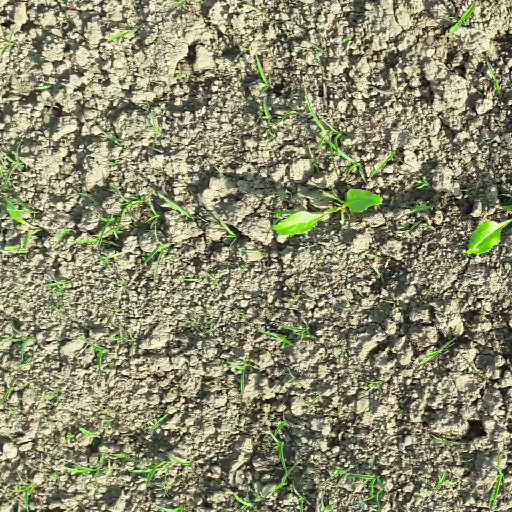sugarbeet: (266, 184, 388, 241), (2, 198, 45, 255), (464, 207, 512, 257)
weed: (59, 191, 237, 261), (269, 443, 384, 512), (300, 85, 368, 181), (1, 147, 38, 216), (109, 453, 167, 487), (256, 320, 320, 347), (416, 333, 458, 364), (11, 471, 37, 512), (446, 1, 476, 36), (250, 53, 275, 92), (257, 98, 280, 139), (1, 336, 32, 365), (69, 454, 104, 479), (232, 355, 253, 396), (371, 145, 396, 178), (492, 454, 505, 512), (427, 472, 454, 496), (484, 59, 501, 97), (232, 492, 263, 512), (86, 345, 108, 372), (98, 126, 124, 148), (1, 385, 14, 419), (271, 412, 289, 436), (148, 410, 168, 431), (272, 205, 302, 219), (78, 425, 102, 441), (48, 278, 71, 294), (1, 28, 17, 51), (408, 201, 436, 213), (153, 501, 183, 512), (108, 28, 137, 39), (153, 121, 165, 139), (415, 179, 431, 189), (33, 83, 54, 90), (177, 459, 196, 466), (172, 1, 188, 9), (110, 160, 120, 169)
